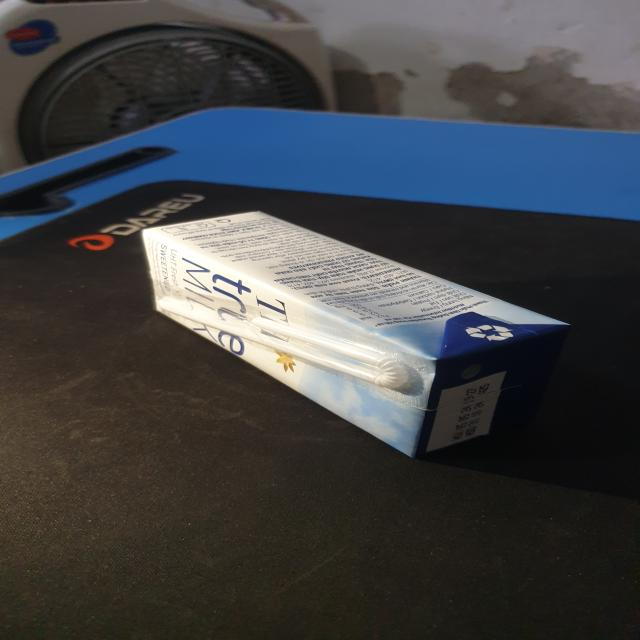TH: (145, 211, 572, 461)
